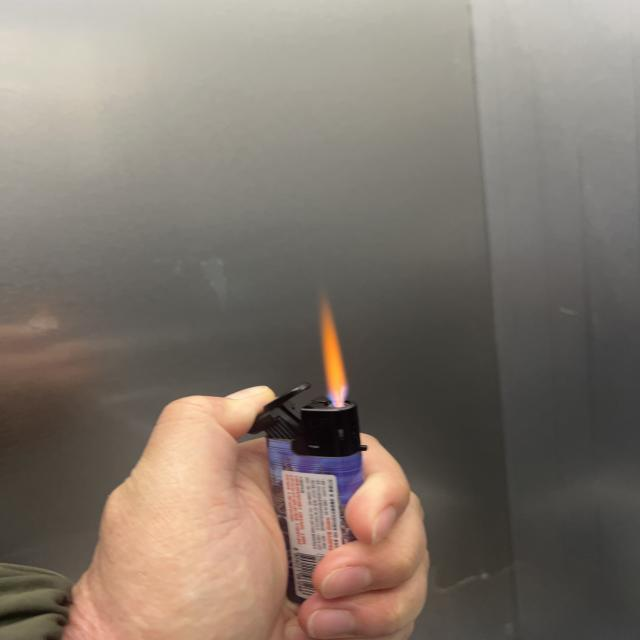fire: (320, 298, 348, 403)
